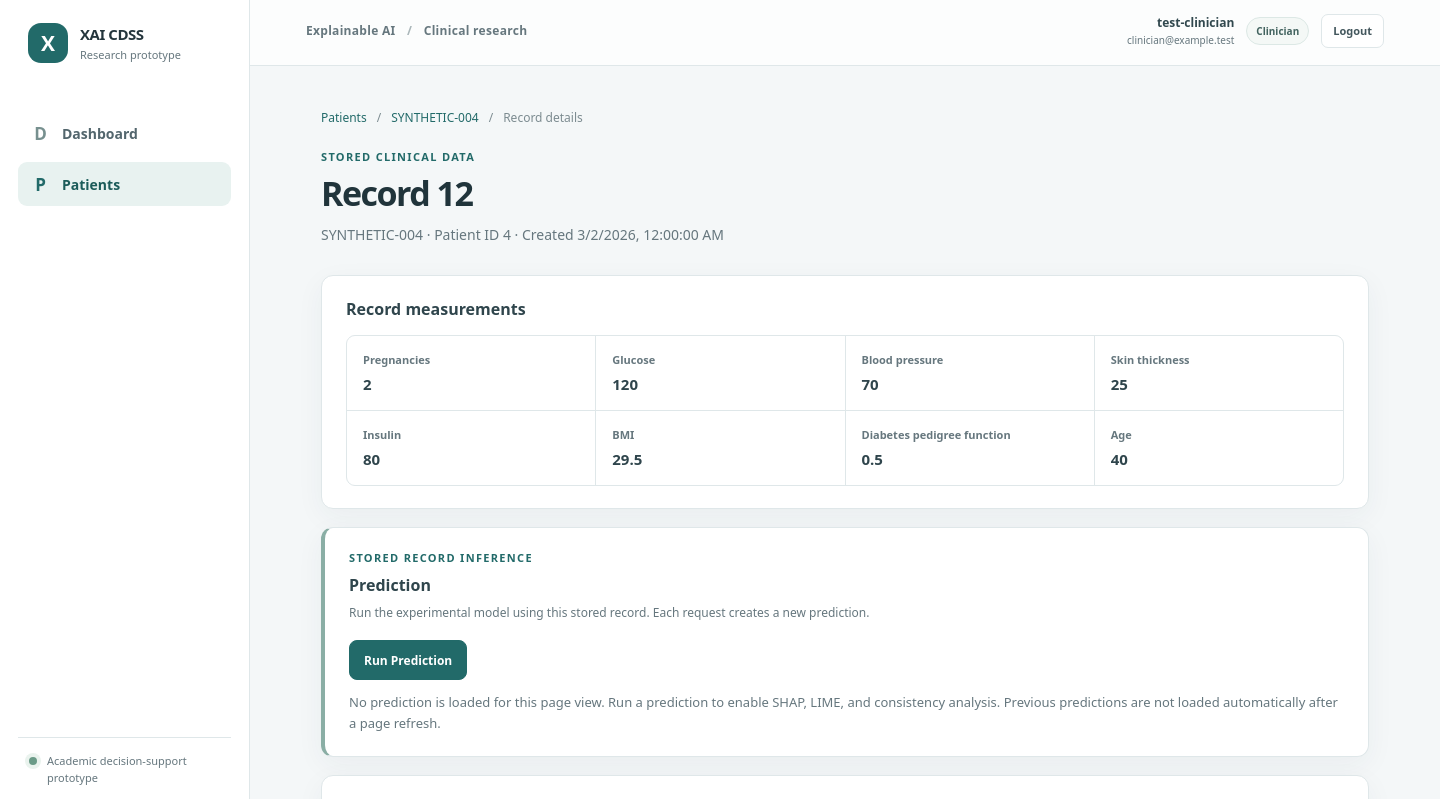
Test: record prediction UI › displays the returned class, formatted and raw probability, and model version
The width and height of the screenshot is (1440, 799).
Click the button "Run Prediction": (408, 660) [349,640,467,680]
(page scrolled)
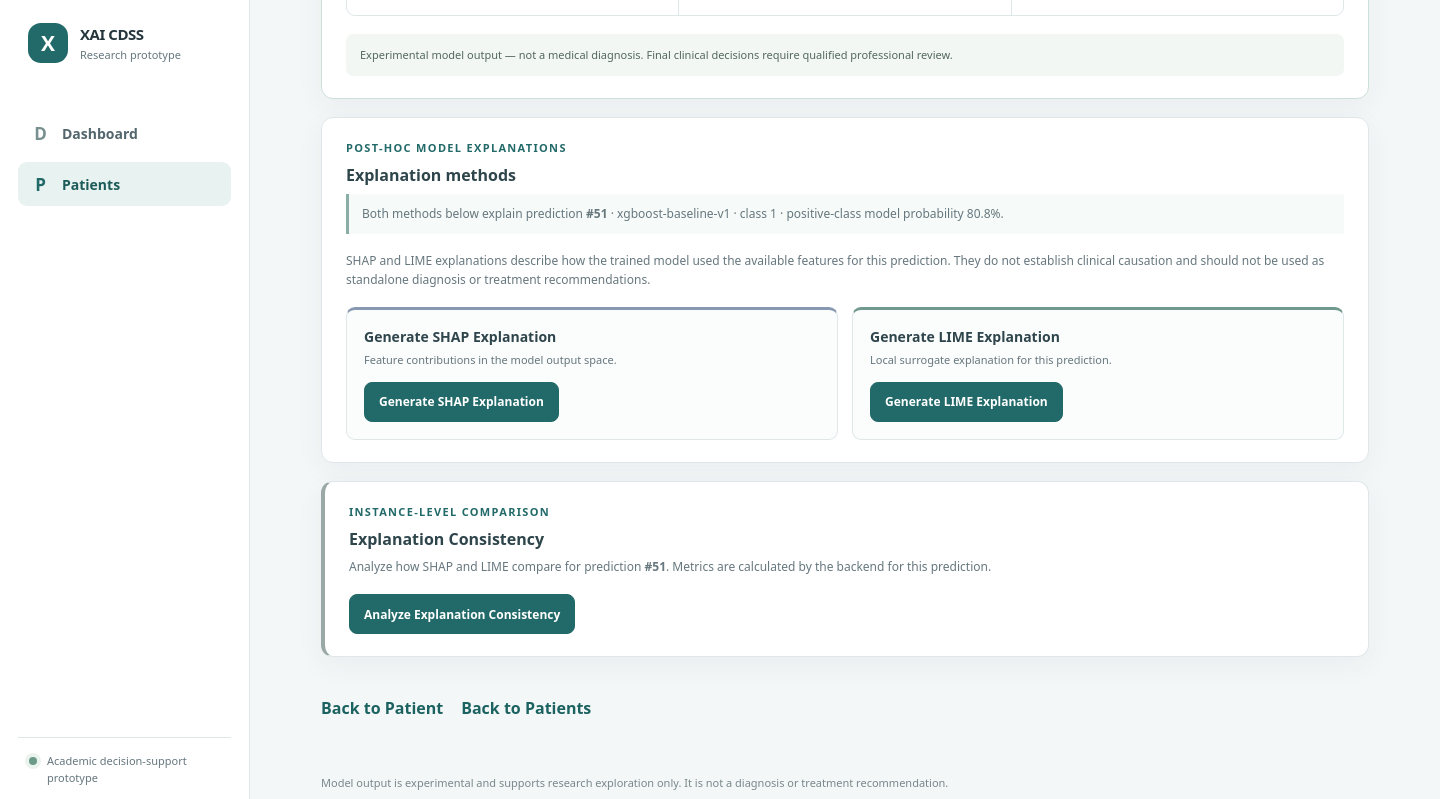
Expected: the heading "Generate SHAP Explanation" is shown, [364,327,556,346]
Result: the text "Experimental model output — not a medical diagnosis. Final clinical decisions require qualified professional review." is shown at [360,48,953,62]
Result: the button "Generate SHAP Explanation" is enabled at [364,382,559,422]
